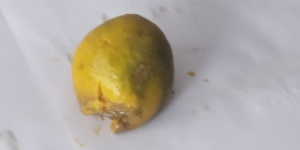BAD: (73, 12, 178, 134)
